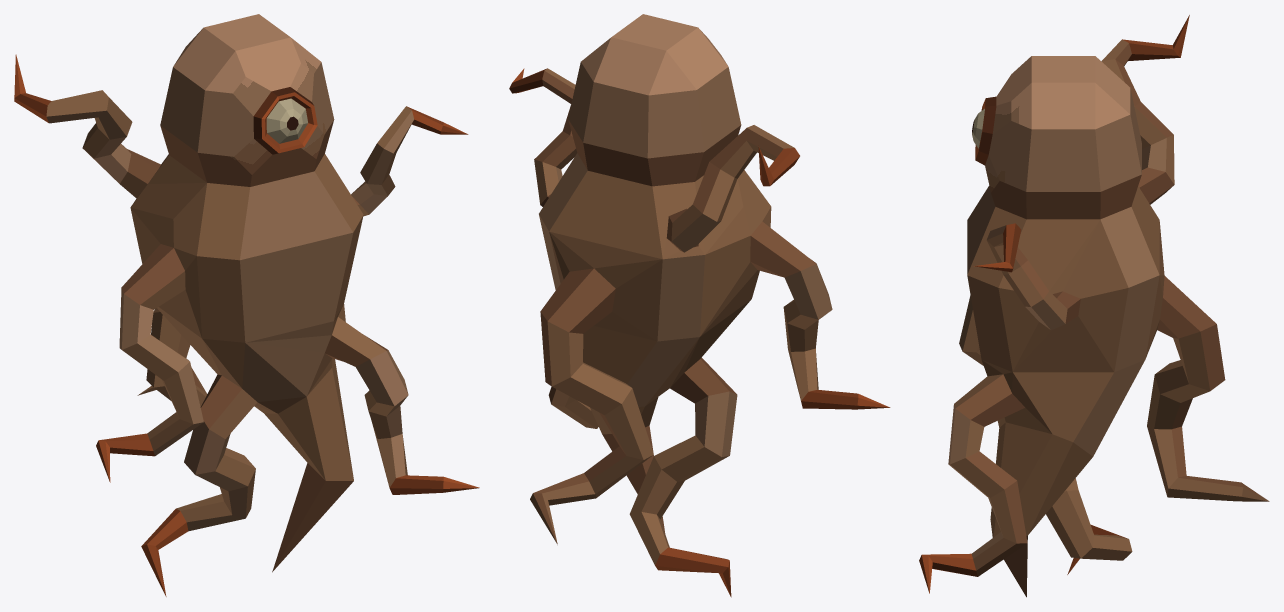
The model's file is CR_Lab2_Alien_01.fbx.
3 renders of one model, left to right at view 1: azimuth 30°, elevation 25°; view 2: azimuth 150°, elevation 25°; view 3: azimuth 270°, elevation 25°, orthographic.
Parts seen in each view (by area): view 1: CR_Lab2_Alien_01; view 2: CR_Lab2_Alien_01; view 3: CR_Lab2_Alien_01.
Part boxes in pixels (x1=…): CR_Lab2_Alien_01: x1=14, y1=14, x2=479, y2=596; CR_Lab2_Alien_01: x1=509, y1=14, x2=890, y2=597; CR_Lab2_Alien_01: x1=919, y1=15, x2=1269, y2=597.
Size of the model in its own units: 0.6618 by 0.9531 by 0.5563.
